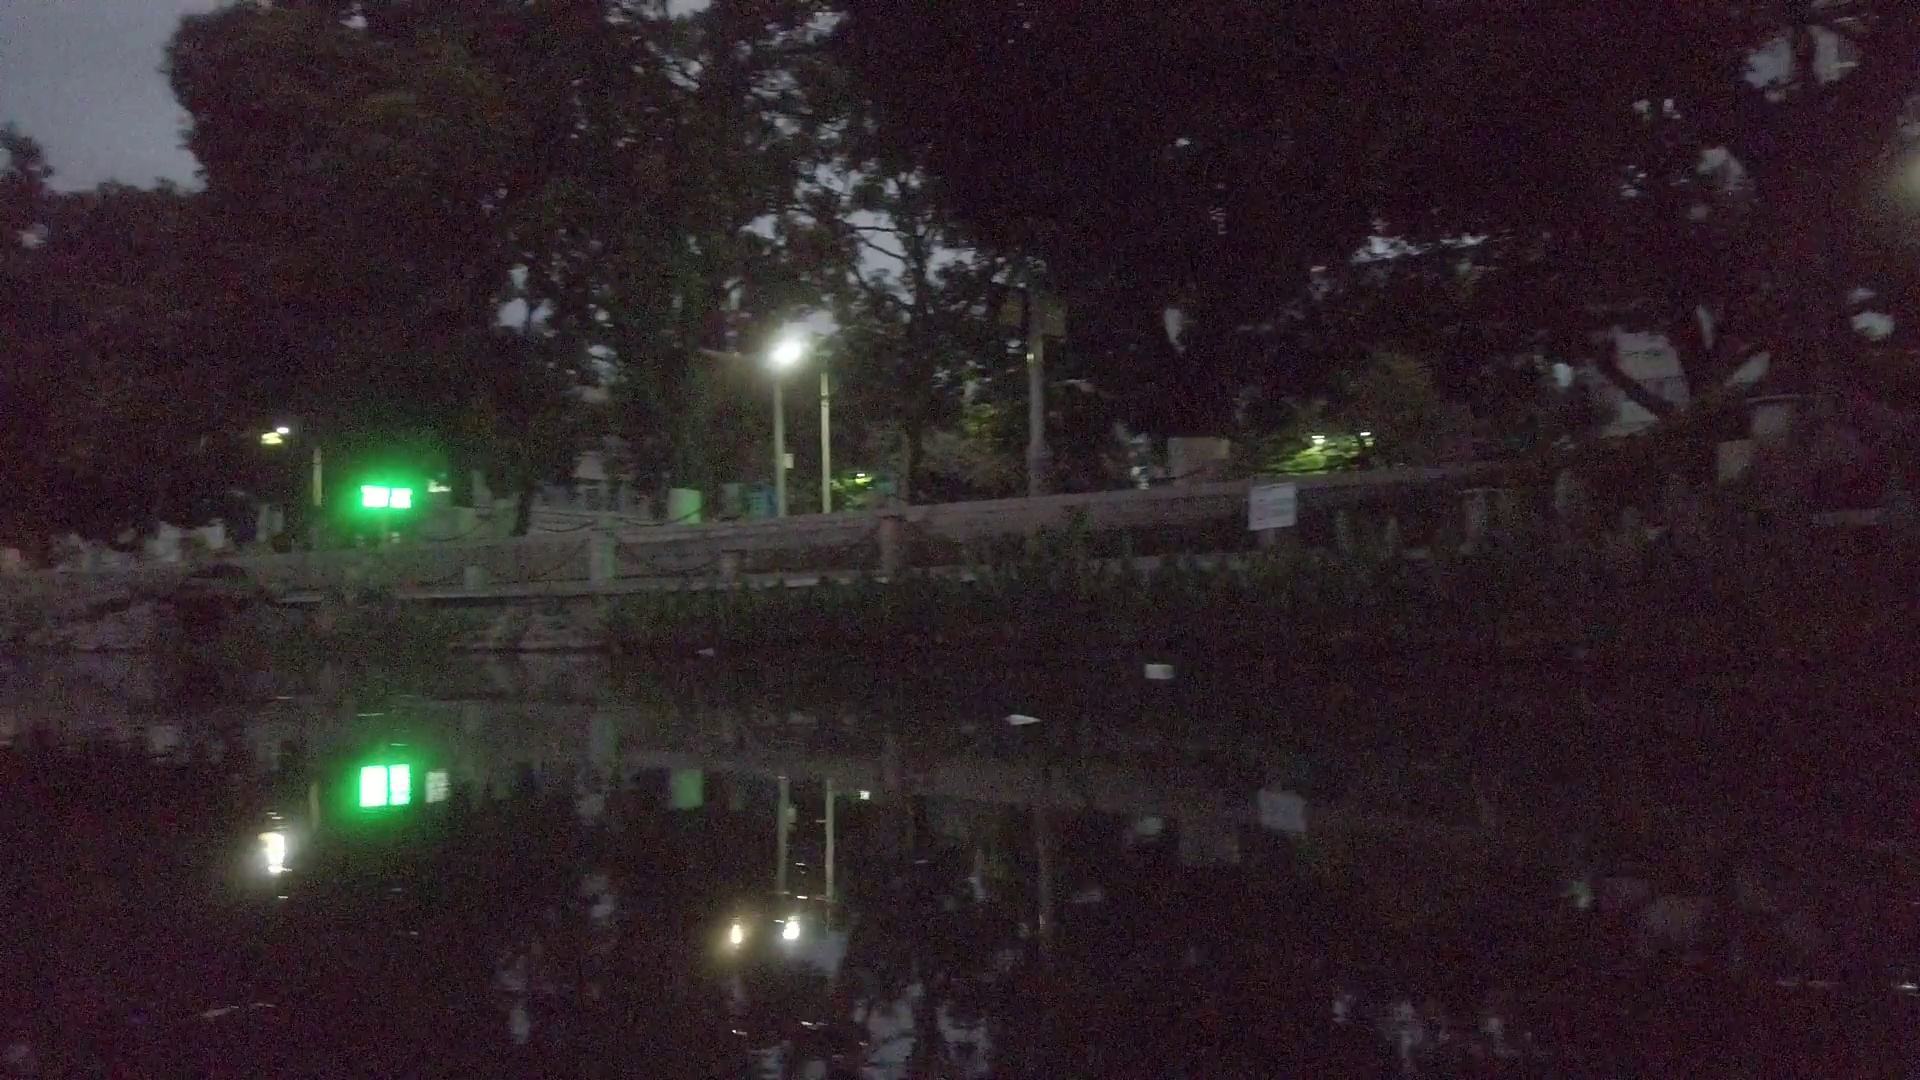carton: (1145, 665, 1174, 679)
paper: (1000, 707, 1047, 731)
